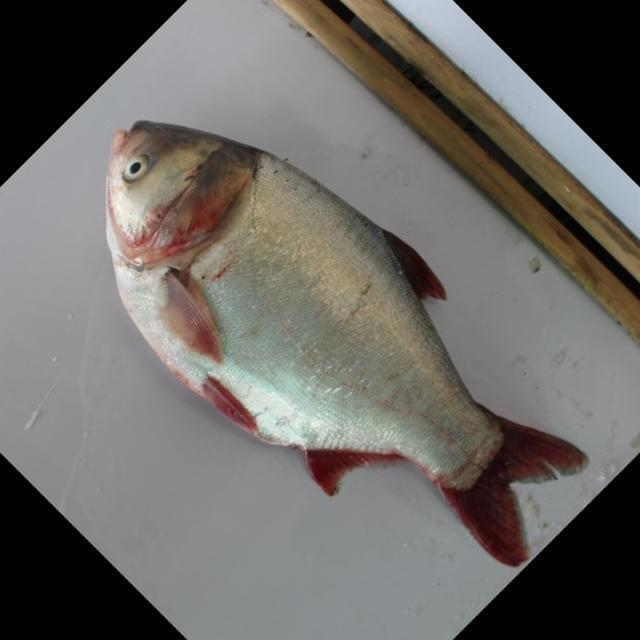SilverCarp: (80, 107, 577, 558)
